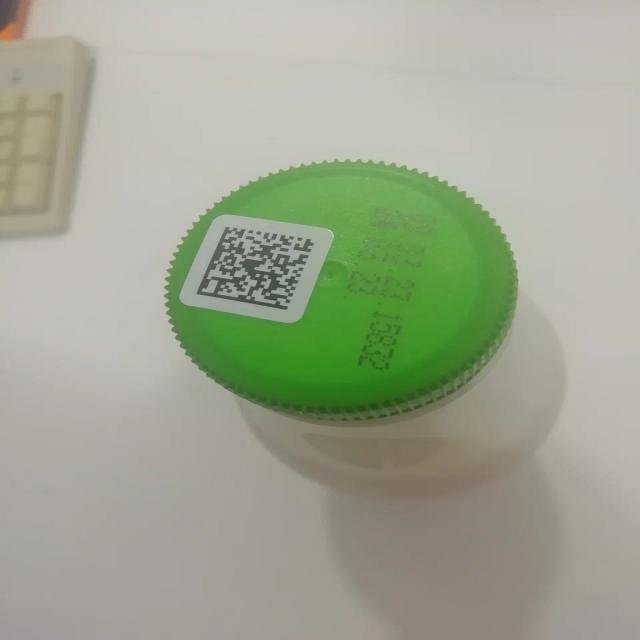datamatrix: (196, 222, 318, 314)
